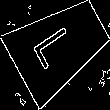L_NE: (33, 20, 86, 73)
